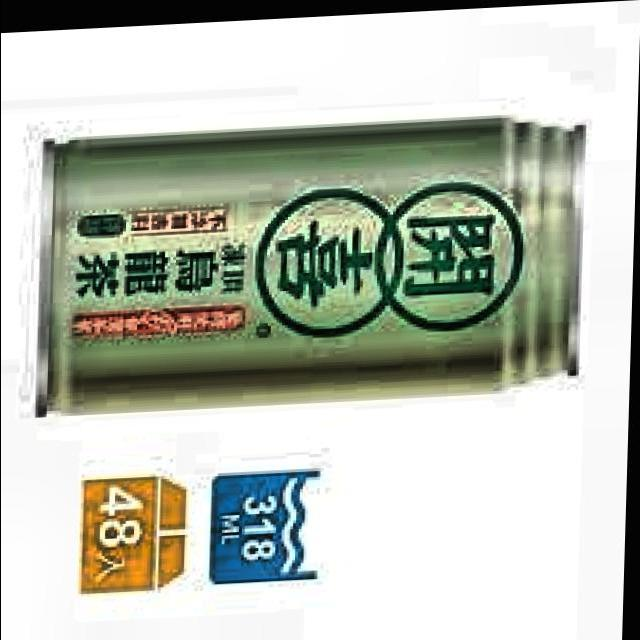litter: (18, 105, 596, 425)
